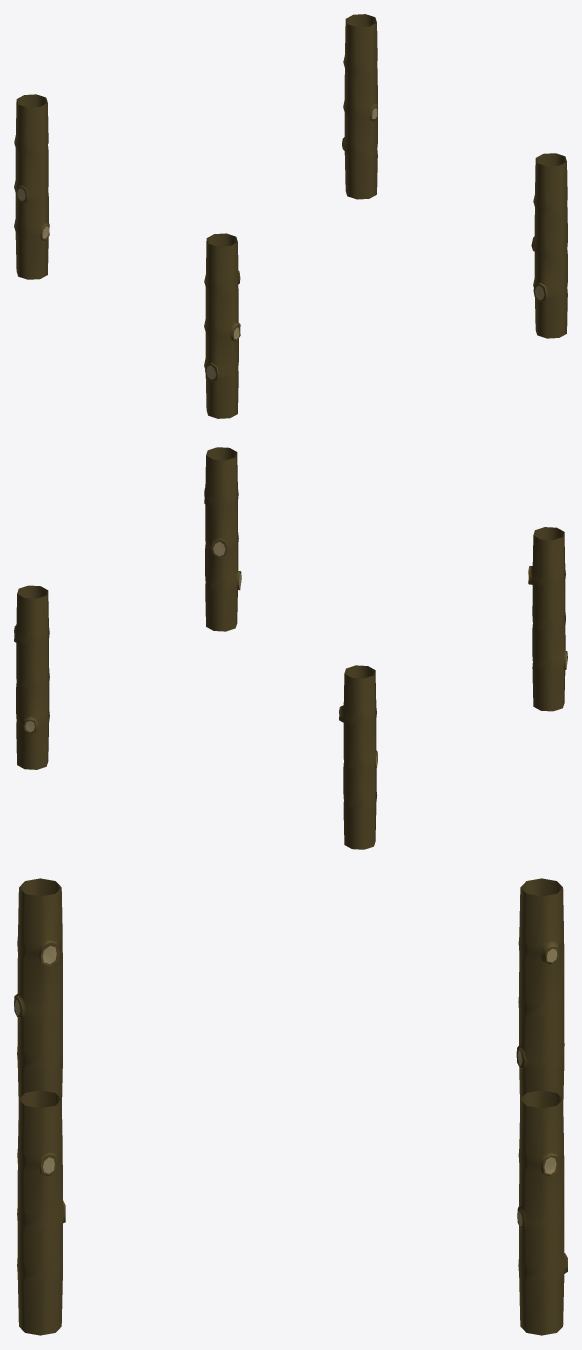
Rendered from Poles_Build_V3.fbx.
The picture shows the model from 3 angles, top to bottom: view 1: azimuth 30°, elevation 25°; view 2: azimuth 150°, elevation 25°; view 3: azimuth 270°, elevation 25°; orthographic projection. The views are drawn at different scales.
Parts seen in each view (by area): view 1: pCylinder5; view 2: pCylinder5; view 3: pCylinder5.
Part boxes in pixels (x1=…): pCylinder5: x1=14, y1=14, x2=567, y2=418; pCylinder5: x1=14, y1=447, x2=567, y2=849; pCylinder5: x1=14, y1=878, x2=567, y2=1335.
Size of the model in its own units: 4.4 by 2 by 4.42.
